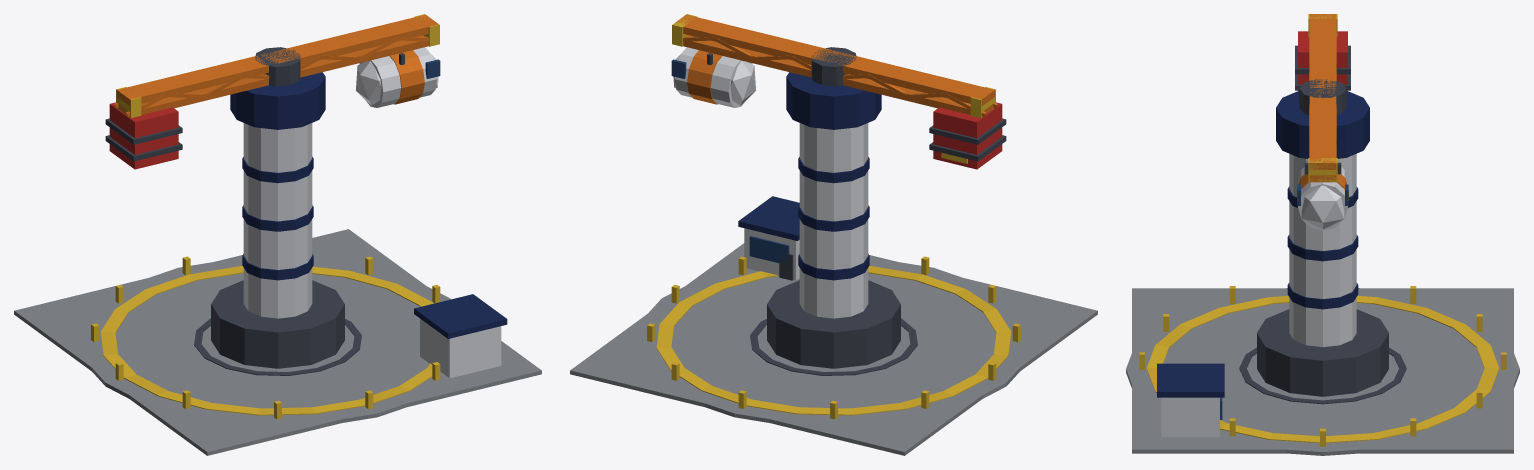
The model's file is Decor_LaunchPad_Centrifuge.fbx.
The picture shows the model from 3 angles, left to right: view 1: azimuth 30°, elevation 25°; view 2: azimuth 150°, elevation 25°; view 3: azimuth 270°, elevation 25°; orthographic projection.
Visible parts, largest first — view 1: Centrifuge_Body; view 2: Centrifuge_Body; view 3: Centrifuge_Body.
Part boxes in pixels (x1,y1,x2,y2): Centrifuge_Body: (14, 14, 541, 455); Centrifuge_Body: (570, 14, 1097, 455); Centrifuge_Body: (1126, 14, 1519, 455).
Bounding box in the file's own units: 26 × 20.7 × 26.
